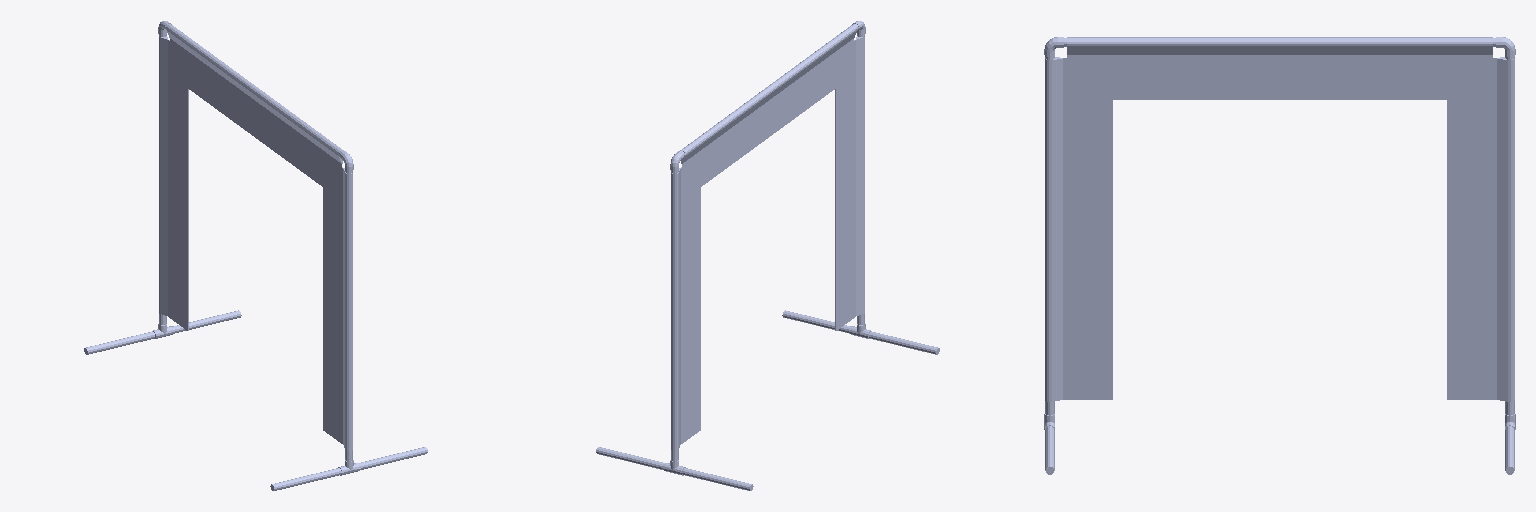
The robot description file, URDF, robot "Target":
<?xml version="1.0" encoding="utf-8"?>
<!-- This URDF was automatically created by SolidWorks to URDF Exporter! Originally created by [author] ([email redacted]) 
     Commit Version: 1.6.0-4-g7f85cfe  Build Version: 1.6.7995.38578
     For more information, please see http://wiki.ros.org/sw_urdf_exporter -->
<robot
  name="Target">
  <link
    name="Target">
    <inertial>
      <origin
        xyz="6.2852E-08 1.1457 6.2859E-06"
        rpy="0 0 0" />
      <mass
        value="22.685" />
      <inertia
        ixx="29.493"
        ixy="1.1957E-06"
        ixz="-3.4362E-06"
        iyy="18.371"
        iyz="0.00012531"
        izz="11.592" />
    </inertial>
    <visual>
      <origin
        xyz="0 0 0"
        rpy="0 0 0" />
      <geometry>
        <mesh
          filename="package://Target/meshes/Target.STL" />
      </geometry>
      <material
        name="">
        <color
          rgba="0.79216 0.81961 0.93333 1" />
      </material>
    </visual>
    <collision>
      <origin
        xyz="0 0 0"
        rpy="0 0 0" />
      <geometry>
        <mesh
          filename="package://Target/meshes/Target.STL" />
      </geometry>
    </collision>
  </link>
</robot>

--- Facts derived from the render (not from the file) ---
Views: 3 orthographic renders of the robot side by side, from view 1: azimuth 30°, elevation 25°; view 2: azimuth 150°, elevation 25°; view 3: azimuth 270°, elevation 25°.
Robot: Target — 1 links, 0 joints (none); root link Target; default pose: all joints at 0.
Links seen in each view (by area): view 1: Target; view 2: Target; view 3: Target.
Boxes of the visible links, left/top/right/bottom form: Target: left=84, top=21, right=427, bottom=490; Target: left=596, top=21, right=939, bottom=490; Target: left=1044, top=37, right=1515, bottom=474.
Size in the robot's own frame: 1 by 2.15 by 1.98 metres.
1 mesh visuals loaded from 1 distinct referenced files (1 binary STL).
